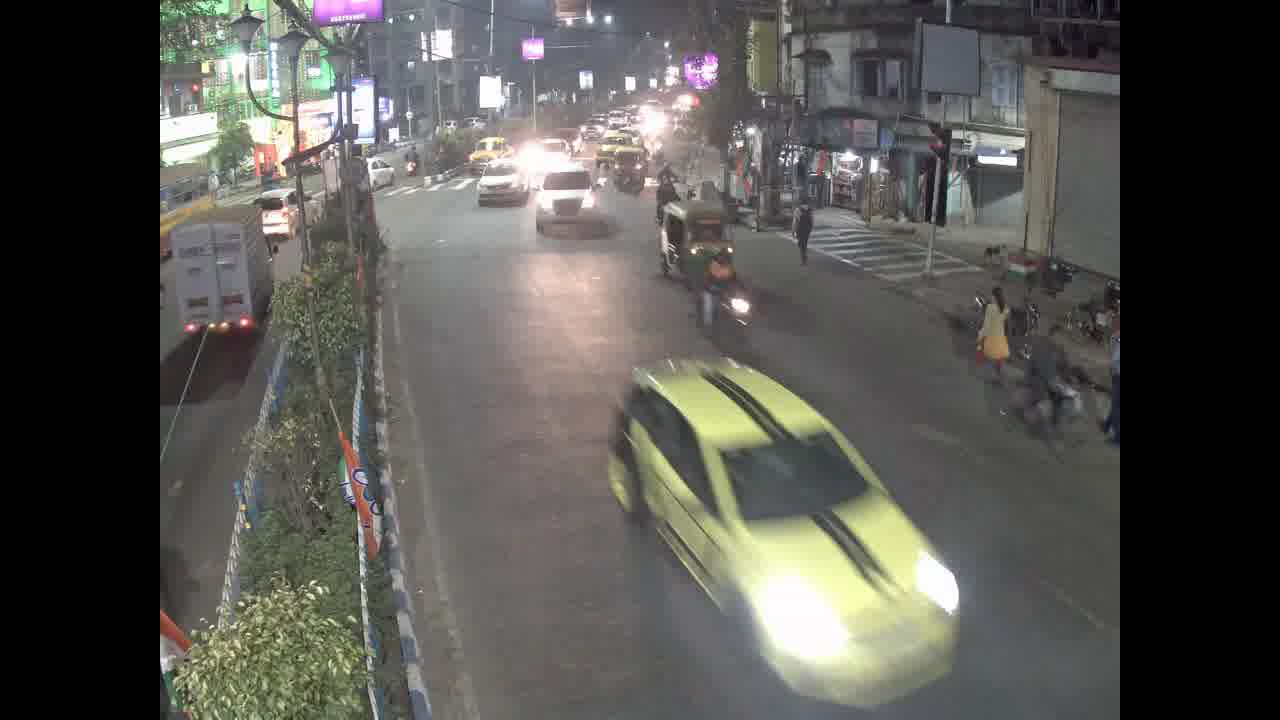auto-rickshaw: (666, 203, 724, 284), (610, 146, 639, 191)
bike: (685, 299, 768, 342)
car: (608, 356, 966, 703), (541, 165, 601, 231), (472, 161, 538, 210), (253, 192, 314, 241), (468, 134, 506, 164)
person: (979, 276, 1008, 386), (1035, 314, 1065, 401), (787, 195, 818, 265), (710, 245, 745, 290)
